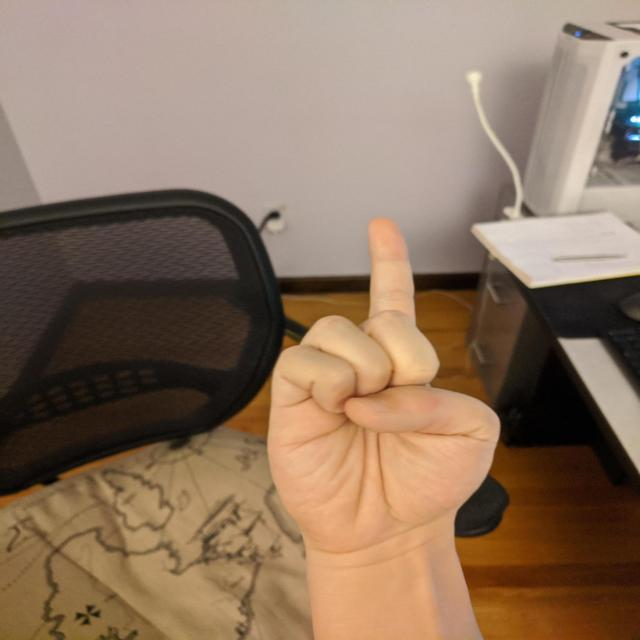D: (255, 211, 507, 564)
